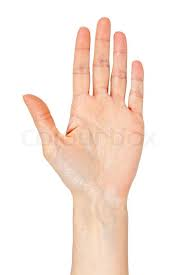palm: (66, 103, 137, 186)
